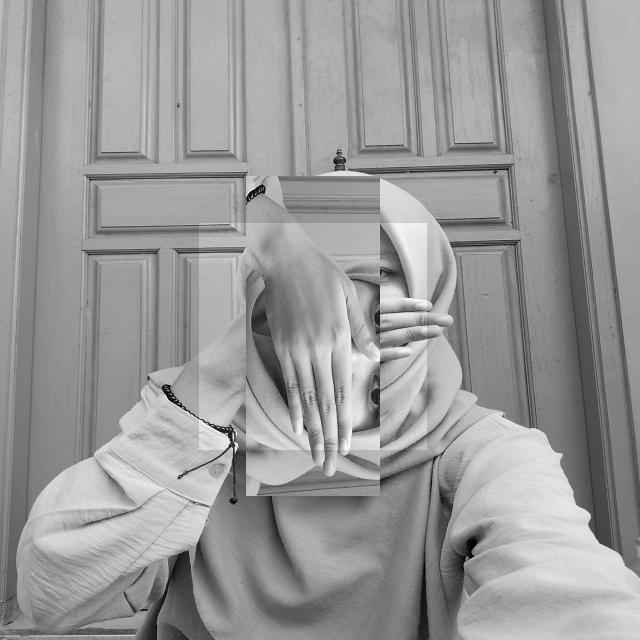buruk: (199, 223, 427, 450)
